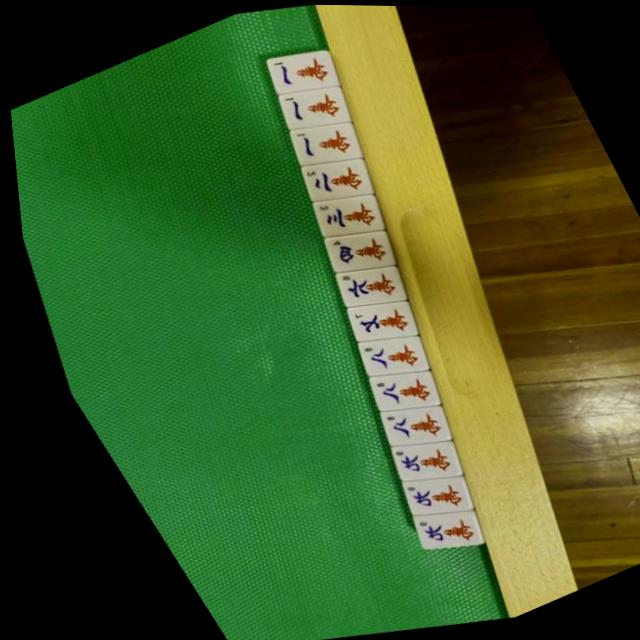sc1: (253, 33, 343, 106), (276, 105, 364, 177), (269, 73, 351, 139)
sc2: (287, 143, 371, 212)
sc3: (294, 177, 383, 250)
sc4: (304, 214, 393, 287)
sc6: (316, 249, 404, 321)
sc7: (326, 285, 413, 356)
sc8: (335, 319, 425, 393), (345, 354, 433, 427), (354, 390, 443, 462)
sc9: (364, 425, 451, 496), (376, 461, 461, 531), (385, 496, 469, 565)
